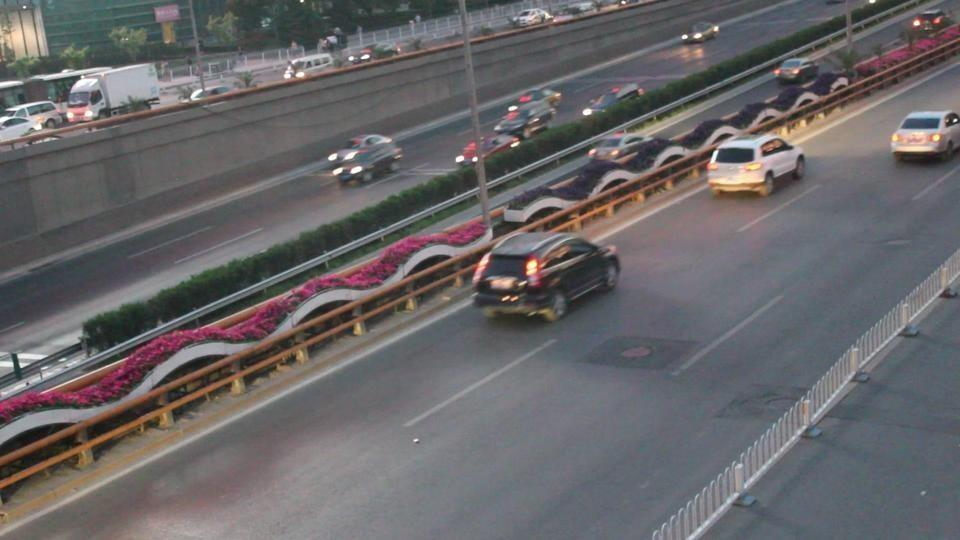car: (472, 230, 622, 323), (503, 155, 642, 228), (706, 133, 806, 198), (329, 135, 404, 187), (890, 110, 960, 163), (588, 134, 688, 171), (496, 93, 557, 137), (581, 81, 645, 118), (771, 58, 844, 88), (455, 132, 517, 165), (906, 3, 960, 39), (2, 101, 62, 131), (284, 54, 335, 81), (188, 81, 240, 103), (0, 116, 37, 140), (681, 23, 720, 44)
